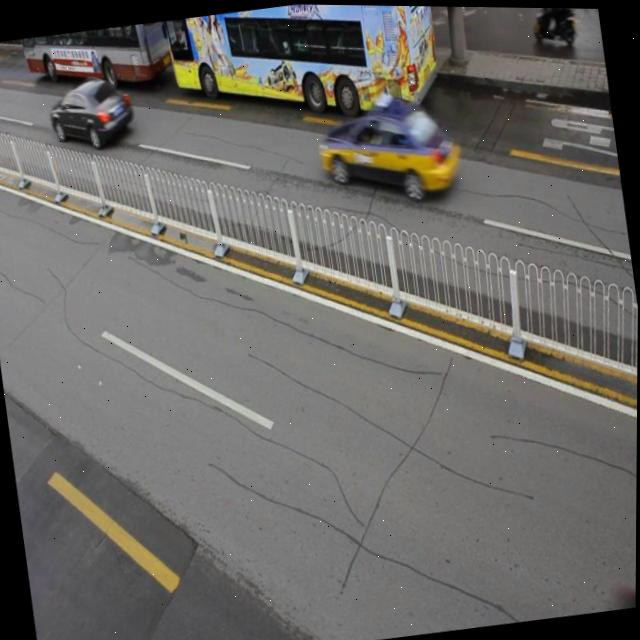car: (312, 88, 466, 211), (44, 71, 137, 154)
van: (161, 2, 442, 151), (18, 19, 175, 104)
